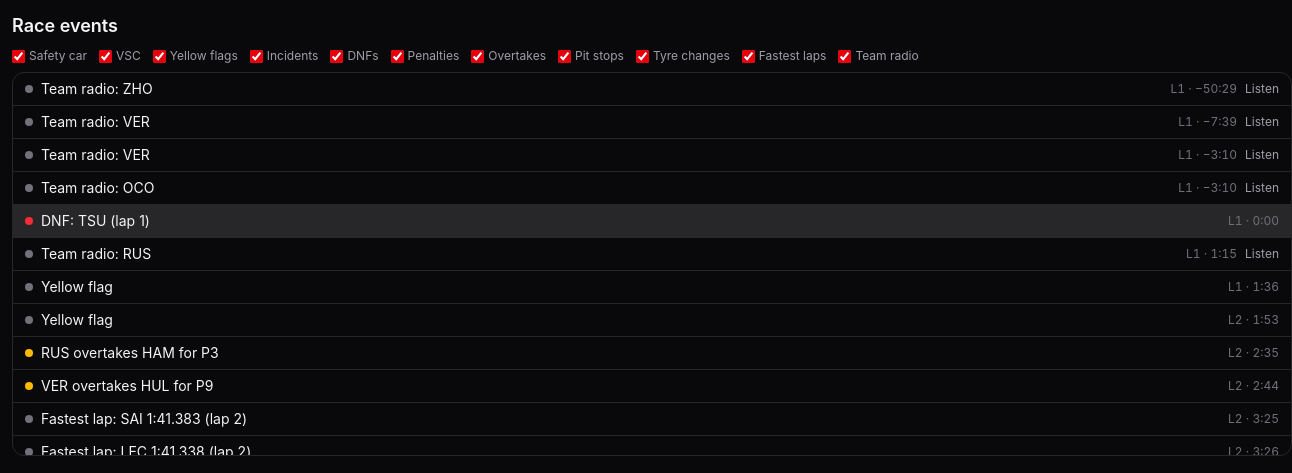
filters hide event types
Step 1. Click the checkbox labelled "Overtakes" → click(478, 56), box [471, 50, 484, 62]
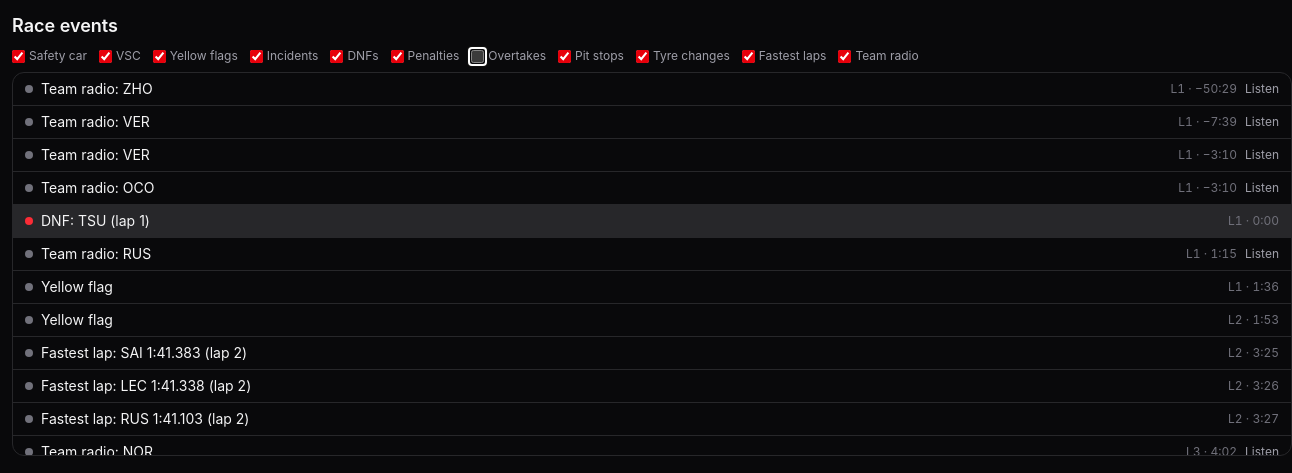
Now the checkbox labelled "Overtakes" is not checked, box [471, 50, 484, 62]
Now the button "RUS overtakes HAM for P3" is gone
